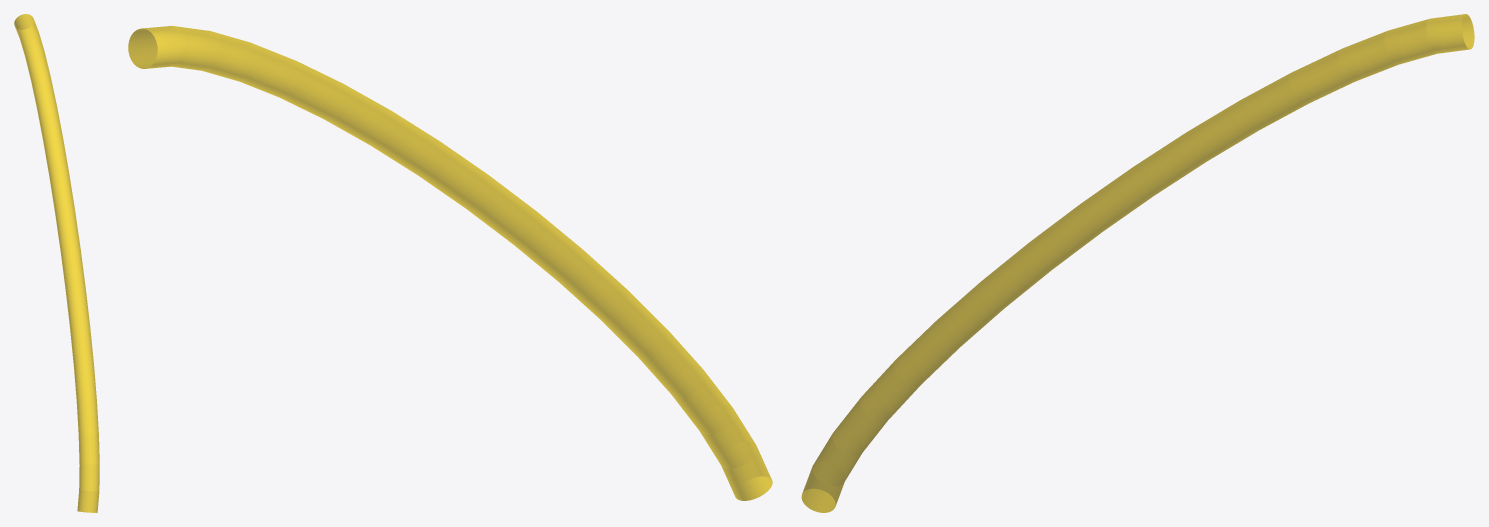
The model's file is Event_75125125_track_86.fbx.
3 views of the same model, side by side, from view 1: azimuth 30°, elevation 25°; view 2: azimuth 150°, elevation 25°; view 3: azimuth 270°, elevation 25° (orthographic). The views are drawn at different scales.
Parts seen in each view (by area): view 1: Model; view 2: Model; view 3: Model.
Boxes of the visible parts, x1,y1,x2,y2 form: Model: (14,14,99,512); Model: (128,26,772,500); Model: (801,14,1474,512).
Size of the model in its own units: 0.3135 by 0.7335 by 0.7524.
